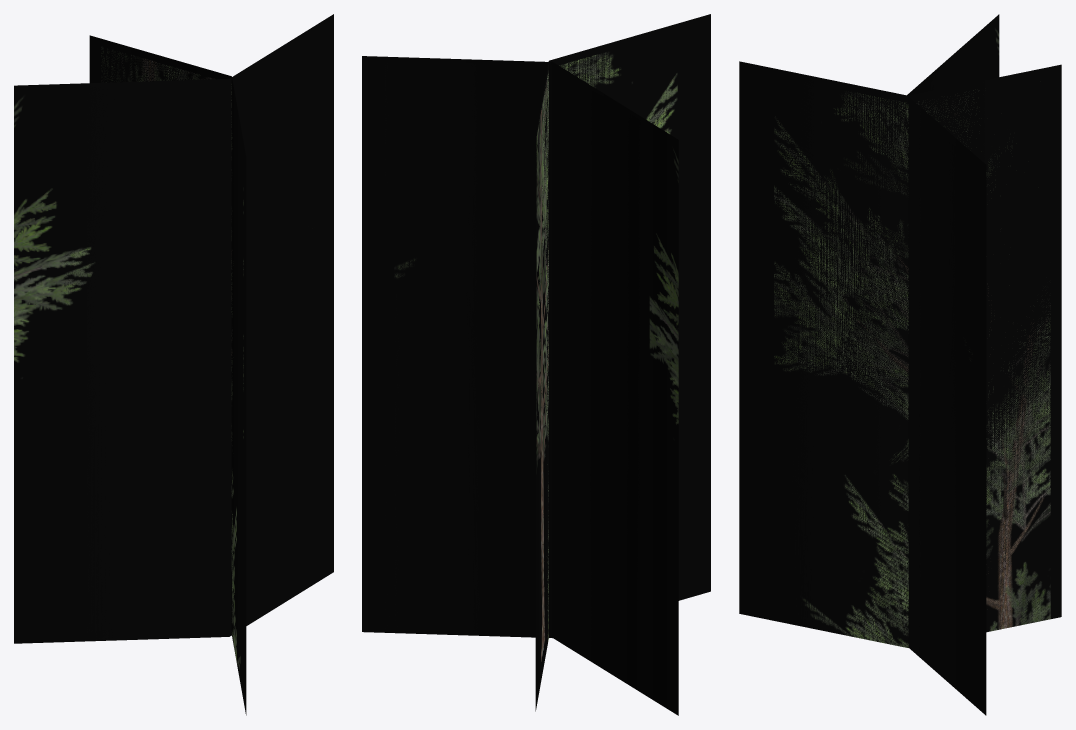
The model's file is NewFakeTrees02.FBX.
The picture shows the model from 3 angles, left to right: view 1: azimuth 30°, elevation 25°; view 2: azimuth 150°, elevation 25°; view 3: azimuth 270°, elevation 25°; orthographic projection. The views are drawn at different scales.
Parts seen in each view (by area): view 1: fake_tree002, fake_tree001, fake_tree003; view 2: fake_tree001, fake_tree002, fake_tree003; view 3: fake_tree002, fake_tree001, fake_tree003.
Boxes of the visible parts, x1=… form: fake_tree002: x1=14, y1=14, x2=333, y2=715; fake_tree001: x1=64, y1=25, x2=321, y2=696; fake_tree003: x1=101, y1=47, x2=316, y2=698; fake_tree001: x1=385, y1=29, x2=659, y2=697; fake_tree002: x1=362, y1=14, x2=710, y2=715; fake_tree003: x1=394, y1=31, x2=677, y2=705; fake_tree002: x1=739, y1=14, x2=1061, y2=715; fake_tree001: x1=775, y1=36, x2=1050, y2=667; fake_tree003: x1=774, y1=44, x2=1046, y2=671.
Size of the model in its own units: 1319 by 2251 by 1189.
